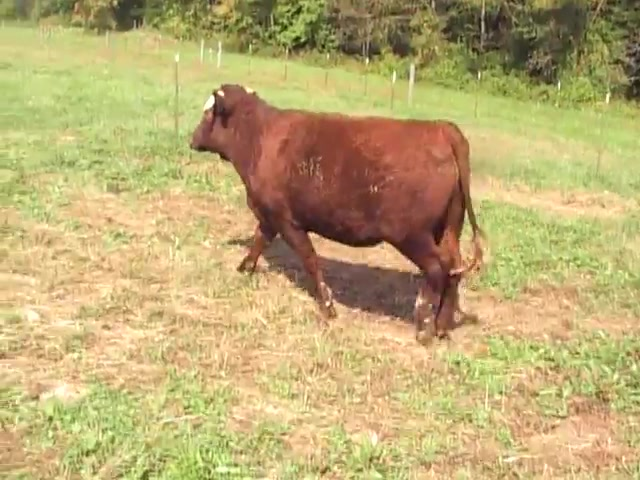cow: (184, 84, 485, 349)
